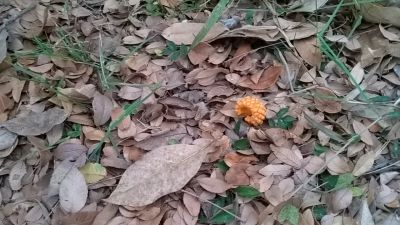eggs: (236, 96, 269, 126)
